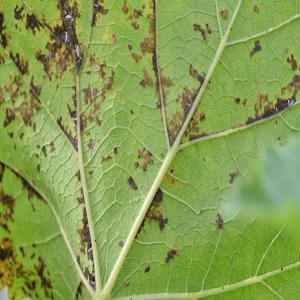Folha: (0, 0, 299, 298)
Fungo: (60, 0, 96, 290), (245, 52, 299, 124), (166, 62, 208, 147), (66, 67, 115, 134), (245, 89, 296, 124), (76, 204, 96, 290), (125, 146, 154, 190), (146, 186, 168, 231), (34, 254, 53, 298), (56, 115, 78, 151), (77, 206, 92, 255), (36, 140, 56, 172), (134, 146, 154, 174), (9, 50, 29, 74), (193, 22, 212, 42), (100, 145, 118, 165), (138, 66, 154, 88), (24, 12, 40, 34), (0, 236, 14, 260), (41, 140, 55, 158), (287, 74, 299, 94), (3, 106, 15, 126), (249, 39, 261, 58), (134, 219, 146, 238), (87, 136, 98, 156), (228, 167, 240, 184), (286, 52, 297, 70), (126, 174, 138, 190), (165, 248, 178, 262), (214, 212, 224, 230), (98, 59, 107, 79), (158, 213, 168, 231), (154, 187, 164, 204), (14, 3, 24, 19), (74, 44, 82, 64), (130, 51, 142, 63), (100, 154, 111, 164), (220, 7, 228, 20), (121, 0, 128, 14), (137, 146, 145, 158), (200, 29, 208, 41), (130, 20, 139, 30), (19, 245, 26, 257), (254, 39, 261, 51), (193, 22, 201, 32), (14, 52, 20, 65), (205, 23, 212, 34), (41, 145, 47, 157), (86, 137, 92, 149), (75, 169, 81, 181), (199, 111, 205, 122), (76, 195, 84, 203), (144, 263, 150, 273), (134, 160, 140, 170), (280, 86, 286, 96), (50, 141, 55, 152), (112, 33, 117, 44), (253, 4, 259, 13), (249, 48, 255, 57), (242, 96, 247, 106), (124, 280, 130, 288), (88, 168, 93, 177), (234, 97, 240, 104), (133, 195, 139, 202), (118, 238, 123, 246), (36, 162, 40, 172), (170, 177, 175, 185), (30, 251, 35, 259), (19, 130, 24, 138), (147, 149, 152, 157), (113, 147, 118, 154), (160, 151, 164, 159), (100, 156, 104, 164), (106, 154, 111, 160), (128, 42, 132, 49), (170, 167, 173, 173), (130, 108, 133, 114)
